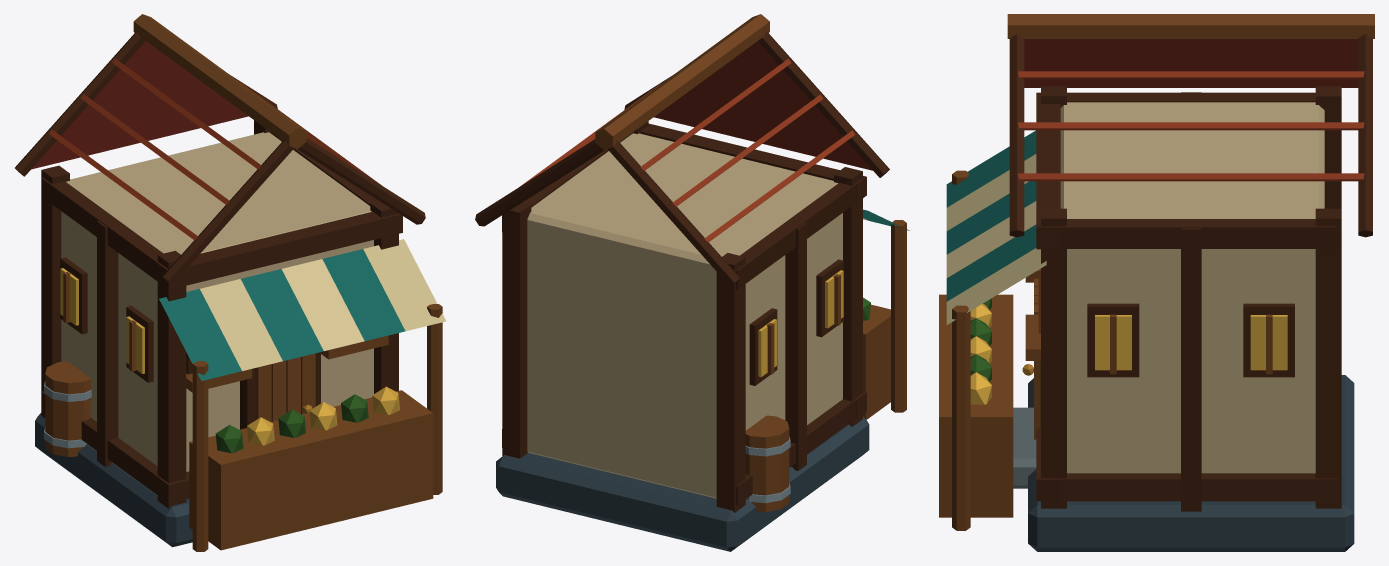
Rendered from Market.fbx.
The picture shows the model from 3 angles, left to right: view 1: azimuth 30°, elevation 25°; view 2: azimuth 150°, elevation 25°; view 3: azimuth 270°, elevation 25°; orthographic projection. The views are drawn at different scales.
Visible parts, largest first — view 1: Market_Mesh; view 2: Market_Mesh; view 3: Market_Mesh.
Boxes of the visible parts, left/top/right/bottom form: Market_Mesh: left=15, top=14, right=445, bottom=551; Market_Mesh: left=475, top=14, right=909, bottom=551; Market_Mesh: left=939, top=14, right=1374, bottom=551.
Bounding box in the file's own units: 0.9839 × 1.41 × 1.18.
